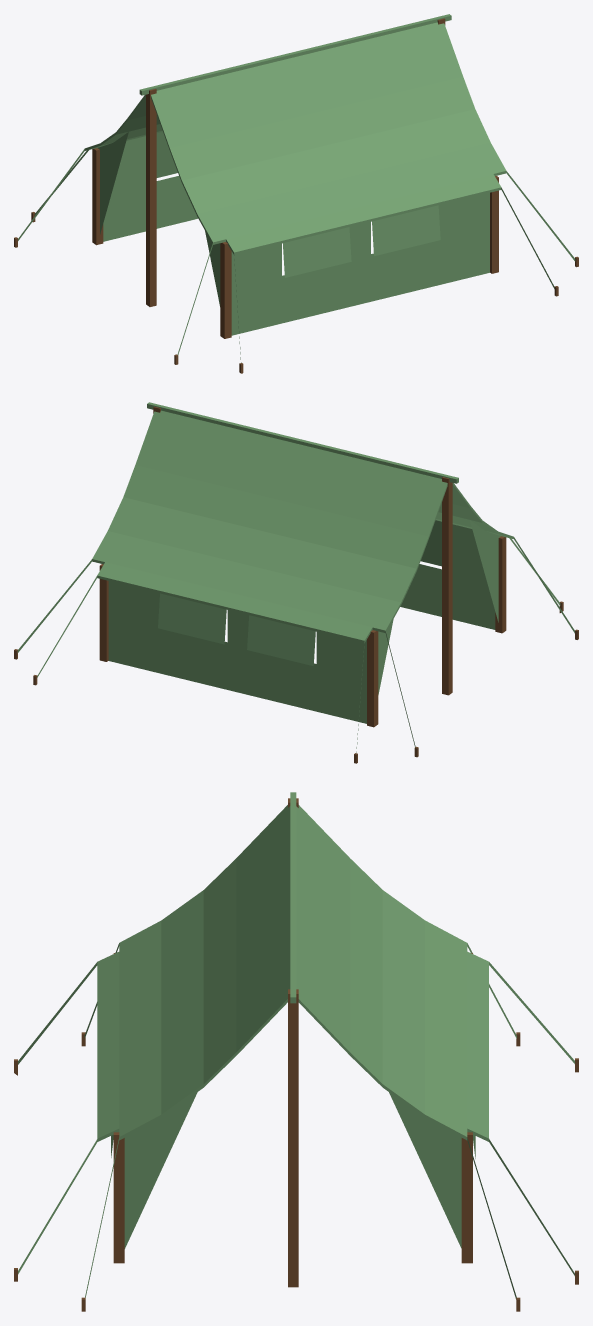
Rendered from Tent.fbx.
3 views of the same model, one above another, from view 1: azimuth 30°, elevation 25°; view 2: azimuth 150°, elevation 25°; view 3: azimuth 270°, elevation 25° (orthographic). The views are drawn at different scales.
Visible parts, largest first — view 1: TENT; view 2: TENT; view 3: TENT.
Part boxes in pixels (x1,y1,x2,y2): TENT: (14, 14, 578, 373); TENT: (14, 402, 578, 763); TENT: (14, 792, 578, 1311).
Bounding box in the file's own units: 605 × 311 × 541.
